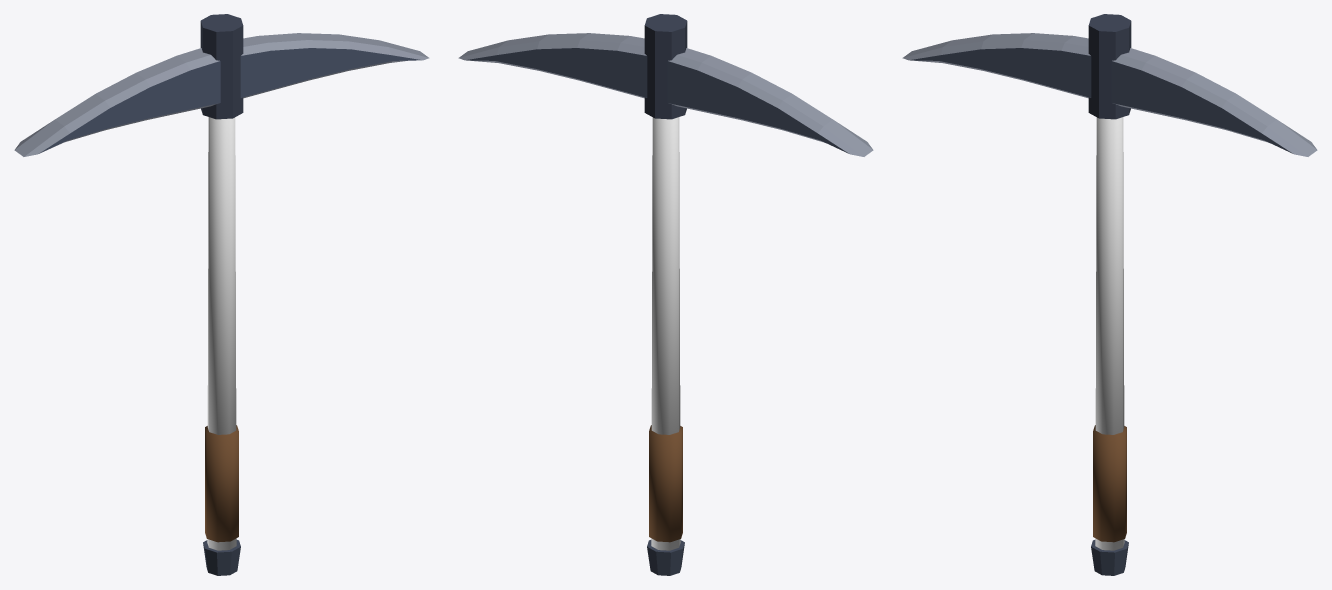
Rendered from lead_pickaxe.glb.
The picture shows the model from 3 angles, left to right: view 1: azimuth 30°, elevation 25°; view 2: azimuth 150°, elevation 25°; view 3: azimuth 330°, elevation 25°; orthographic projection.
Parts seen in each view (by area): view 1: lead_pickaxe_v0; view 2: lead_pickaxe_v0; view 3: lead_pickaxe_v0.
Part boxes in pixels (x1,y1,x2,y2): lead_pickaxe_v0: (14,14,429,575); lead_pickaxe_v0: (458,14,873,575); lead_pickaxe_v0: (902,14,1317,575).
Size of the model in its own units: 0.68 by 0.875 by 0.064.
